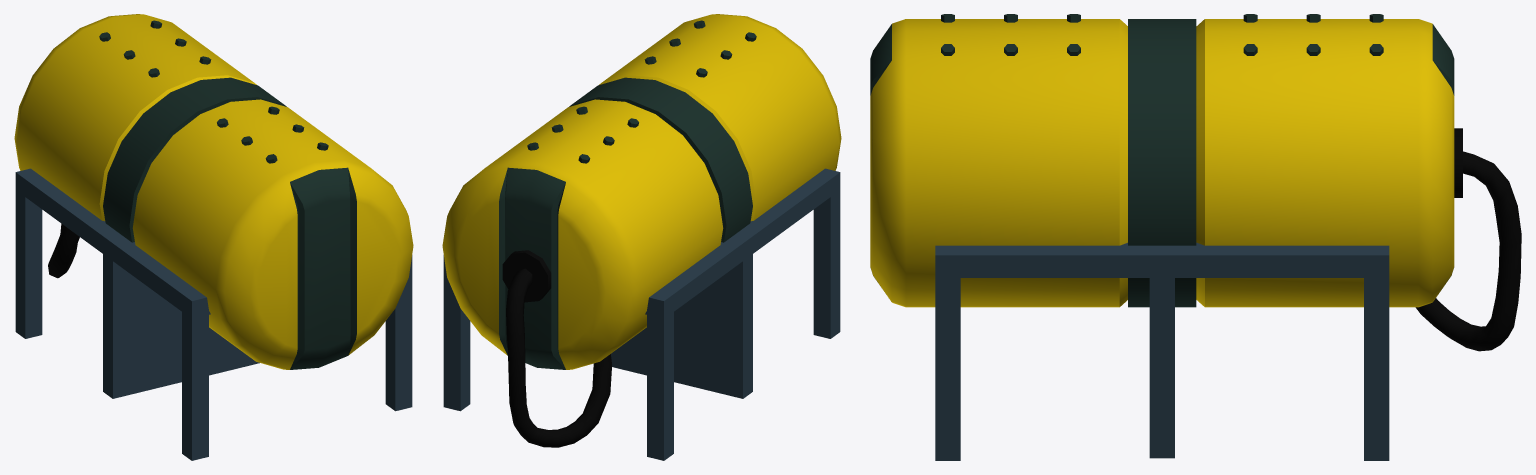
File: Gas_Tank_A.fbx
The picture shows the model from 3 angles, left to right: view 1: azimuth 30°, elevation 25°; view 2: azimuth 150°, elevation 25°; view 3: azimuth 270°, elevation 25°; orthographic projection. The views are drawn at different scales.
Parts seen in each view (by area): view 1: Gas_Tank_A; view 2: Gas_Tank_A; view 3: Gas_Tank_A.
Boxes of the visible parts, left/top/right/bottom form: Gas_Tank_A: left=14, top=14, right=413, bottom=460; Gas_Tank_A: left=442, top=14, right=841, bottom=460; Gas_Tank_A: left=870, top=14, right=1521, bottom=460.
Bounding box in the file's own units: 41.1 × 50.02 × 81.66.
